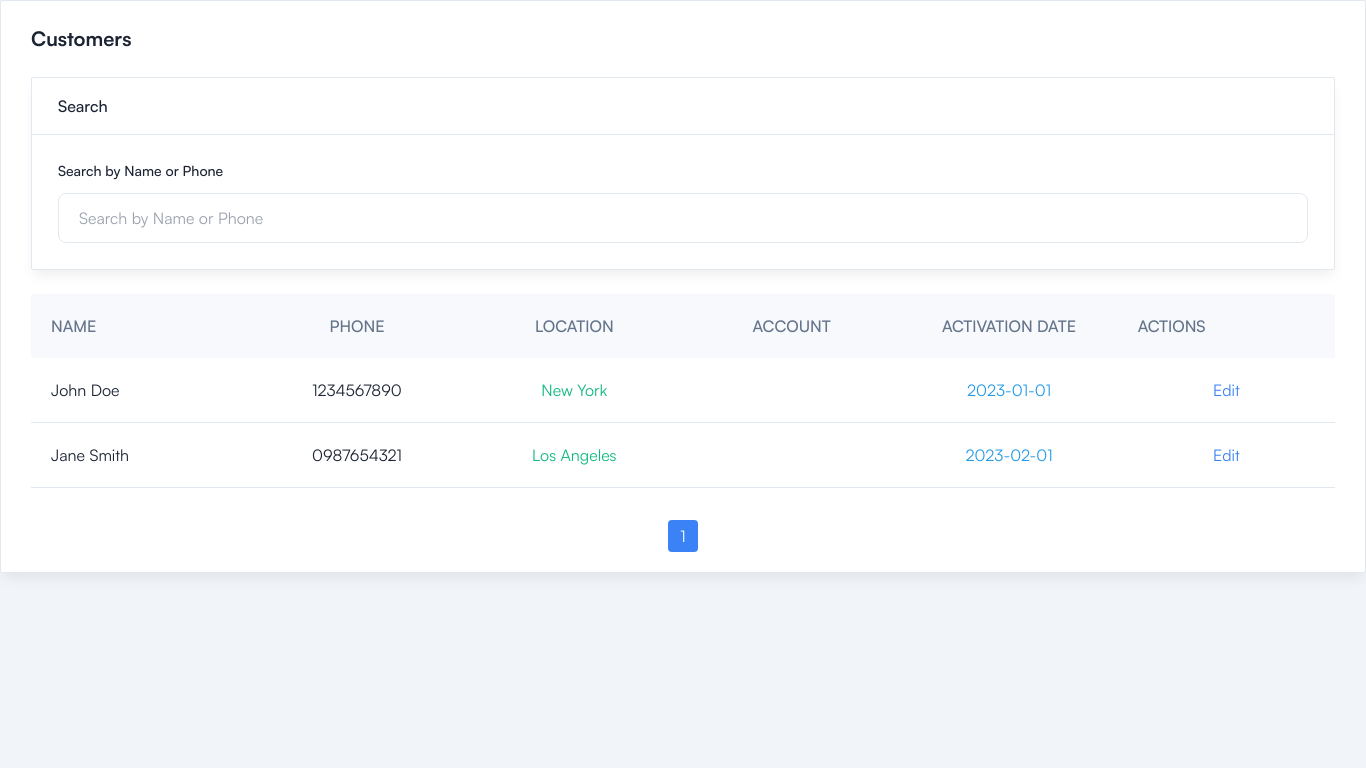
CustomersTable › opens and saves edits in the modal
This screenshot has width=1366, height=768.
Note: Simulate opening the edit modal
Click the button with test id "customer-edit-1". click: click(1226, 390)
box: [1213,378,1240,402]
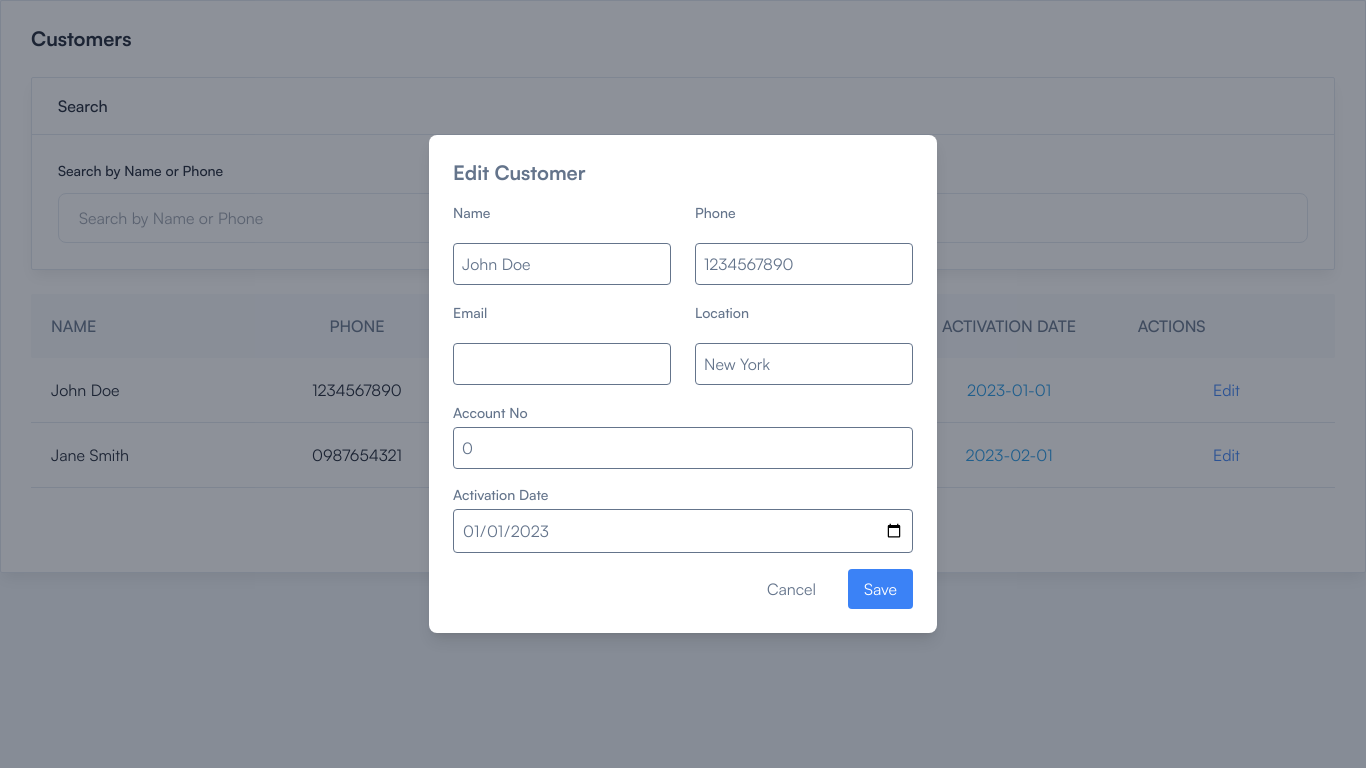
Check: the heading "Edit Customer" is shown, box [453,160,586,185]
